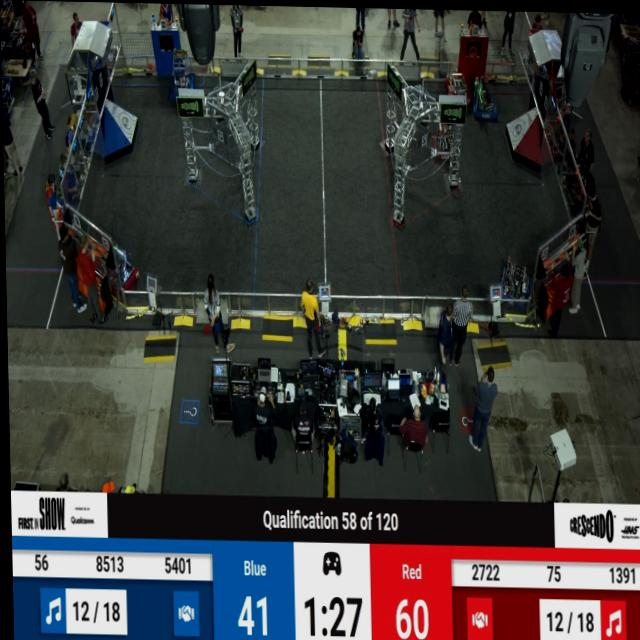Robot: (100, 230, 141, 300), (495, 249, 534, 314), (167, 44, 198, 109), (432, 101, 460, 163), (469, 75, 497, 122), (444, 61, 471, 102)
